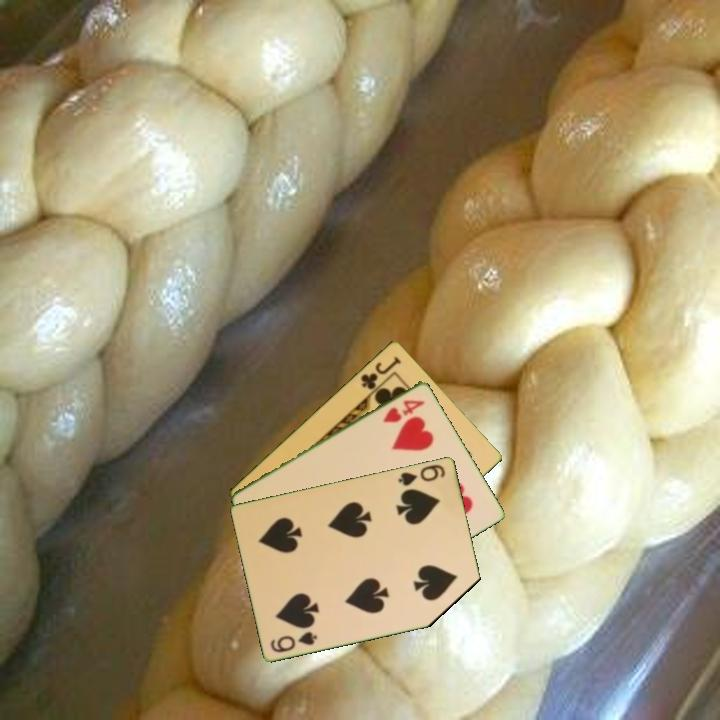4h: (379, 396, 428, 425)
6s: (395, 461, 448, 489), (267, 628, 320, 655)
Jc: (357, 352, 404, 392)
